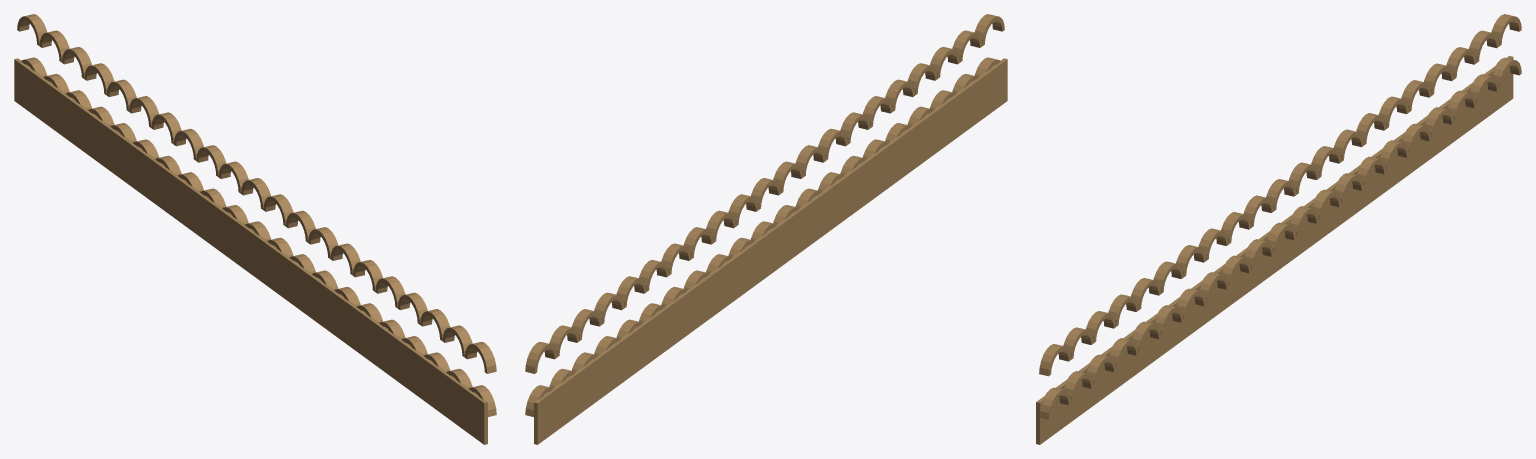
Rendered from ArcadeE_WallShade.fbx.
The picture shows the model from 3 angles, left to right: view 1: azimuth 30°, elevation 25°; view 2: azimuth 150°, elevation 25°; view 3: azimuth 330°, elevation 25°; orthographic projection.
Visible parts, largest first — view 1: ArchE0_-28.001; view 2: ArchE0_-28.001; view 3: ArchE0_-28.001.
Boxes of the visible parts, x1,y1,x2,y2 form: ArchE0_-28.001: [14, 14, 496, 444]; ArchE0_-28.001: [525, 14, 1007, 444]; ArchE0_-28.001: [1036, 14, 1521, 444].
Bounding box in the file's own units: 390 × 2713 × 25540.
